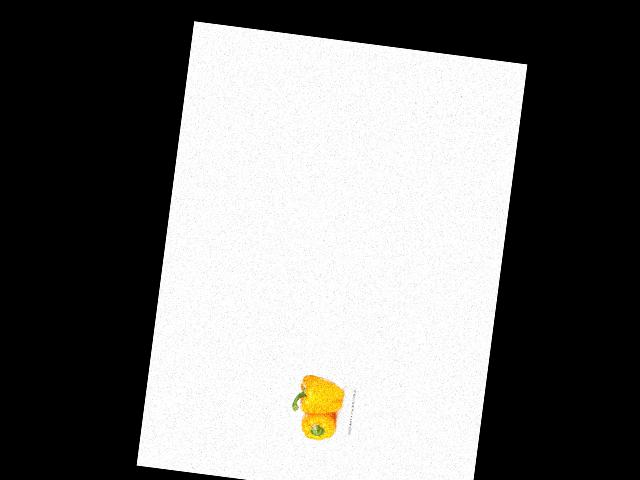bell_pepper: (296, 406, 339, 443)
